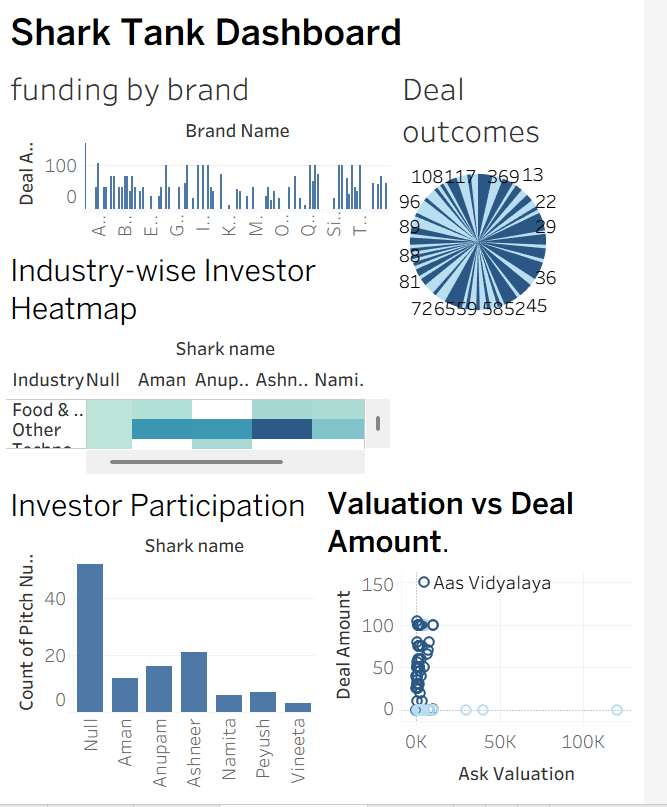

The page's visual inventory and layout, read from the dashboard file:
{"tool":"tableau","page":{"name":"Dashboard 1","canvas":[650,860],"ordinal":0},"visuals":[{"type":"title","box":[8,8.5,634,57.5]},{"type":"worksheet","title":"Sheet 1","mark":"Automatic","rows":["deal_amount"],"cols":["brand_name"],"box":[8,66.1,392,196.4]},{"type":"worksheet","title":"Sheet 3","mark":"Pie","box":[400,66.1,242,446.5]},{"type":"worksheet","title":"Sheet 5","mark":"Automatic","rows":["Calculation_0914272406700033"],"cols":["Calculation_0914272397991936"],"box":[8,262.4,392,250.2]},{"type":"worksheet","title":"Sheet 2","mark":"Bar","rows":["pitch_number"],"cols":["Calculation_0914272397991936"],"box":[8,512.6,317,338.9]},{"type":"worksheet","title":"Sheet 4","mark":"Automatic","rows":["deal_amount"],"cols":["ask_valuation"],"box":[325,512.6,317,338.9]}]}

Visuals, with their boxes on the page's 650x860 design canvas (x1, y1, x2, y2). These are canvas units, not pixel positions in the 667x807 screenshot, which may show the page scaled, cropped or inside an application window:
title: (left=8, top=8, right=642, bottom=66)
"Sheet 1" worksheet: (left=8, top=66, right=400, bottom=262)
"Sheet 3" worksheet (Pie marks): (left=400, top=66, right=642, bottom=513)
"Sheet 5" worksheet: (left=8, top=262, right=400, bottom=513)
"Sheet 2" worksheet (Bar marks): (left=8, top=513, right=325, bottom=852)
"Sheet 4" worksheet: (left=325, top=513, right=642, bottom=852)
